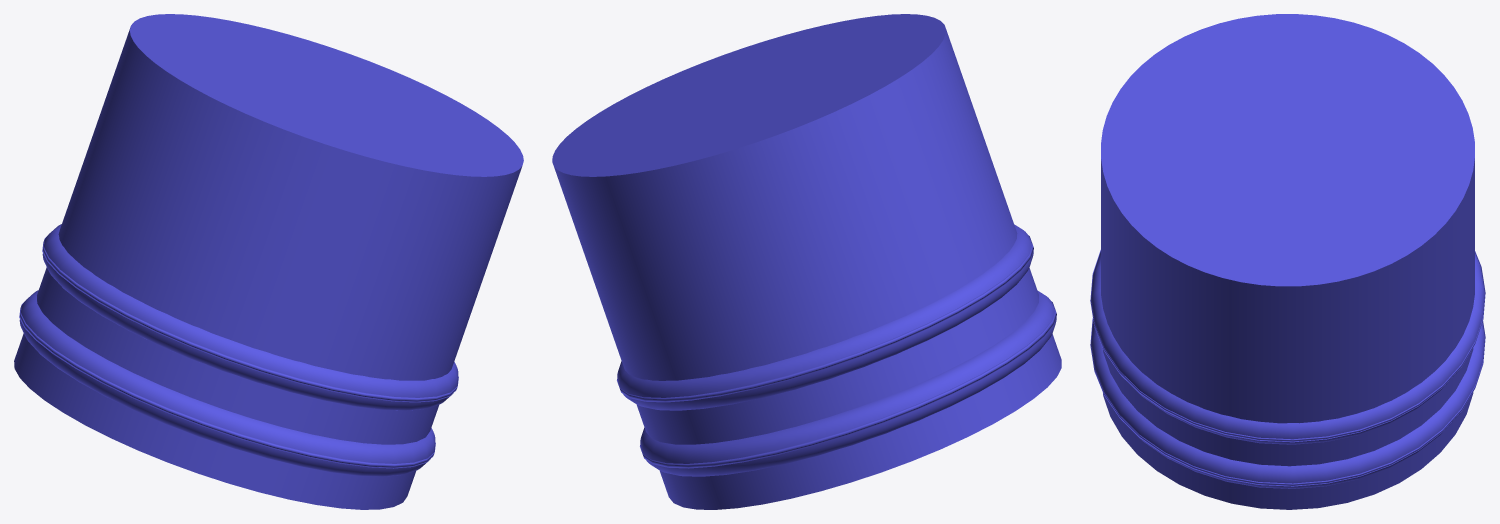
Rendered from bombilla94.obj.
The picture shows the model from 3 angles, left to right: view 1: azimuth 30°, elevation 25°; view 2: azimuth 150°, elevation 25°; view 3: azimuth 270°, elevation 25°; orthographic projection. The views are drawn at different scales.
Visible parts, largest first — view 1: Cylinder001, Cylinder003, Cylinder004, Cylinder006, Cylinder002; view 2: Cylinder001, Cylinder003, Cylinder004, Cylinder006, Cylinder002; view 3: Cylinder001, Cylinder004, Cylinder002, Cylinder003, Cylinder006.
Boxes of the visible parts, x1,y1,x2,y2 form: Cylinder001: [58, 14, 523, 380]; Cylinder003: [37, 267, 438, 444]; Cylinder004: [19, 290, 435, 476]; Cylinder006: [14, 333, 415, 509]; Cylinder002: [42, 224, 458, 410]; Cylinder001: [552, 14, 1017, 380]; Cylinder003: [637, 268, 1038, 444]; Cylinder004: [640, 291, 1056, 476]; Cylinder006: [660, 334, 1061, 509]; Cylinder002: [617, 224, 1033, 410]; Cylinder001: [1101, 14, 1474, 423]; Cylinder004: [1090, 318, 1485, 488]; Cylinder002: [1090, 250, 1485, 444]; Cylinder003: [1102, 348, 1473, 466]; Cylinder006: [1103, 392, 1473, 509].
Bounding box in the file's own units: 85.62 × 80.66 × 72.21.
